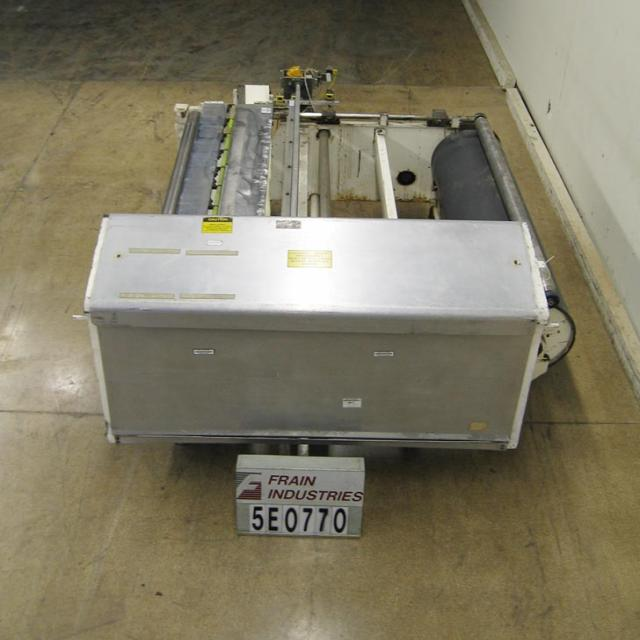conveyor: (23, 59, 636, 557)
